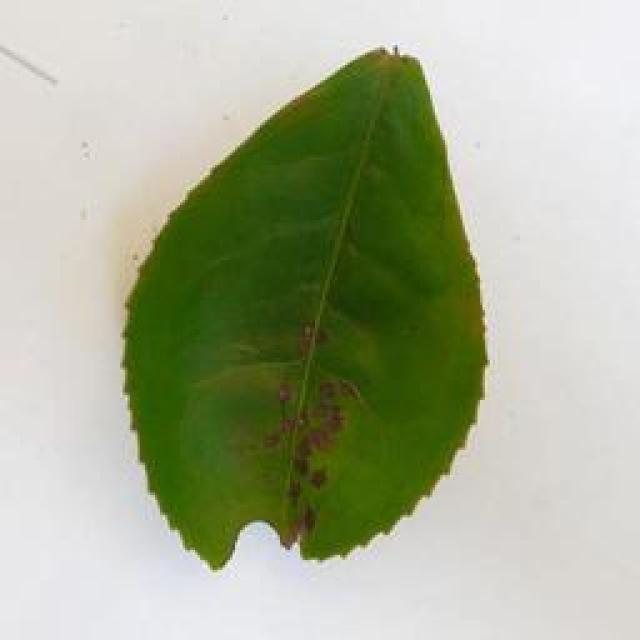Helopeltis: (123, 39, 480, 586)
